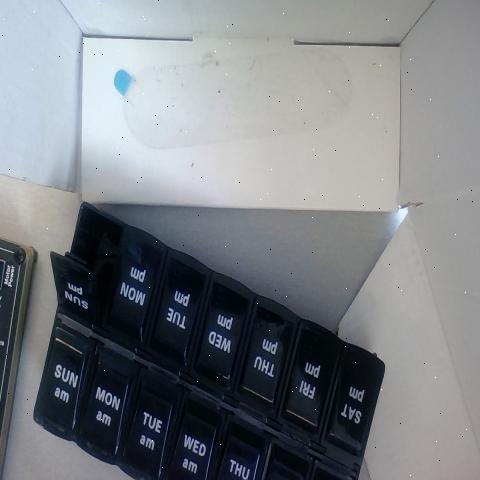FRI-pm: (294, 342, 325, 424)
MON-am: (83, 364, 128, 448)
MON-pm: (105, 238, 153, 338)
Open: (49, 205, 123, 329)
SAT-pm: (333, 362, 370, 442)
SUN-am: (47, 338, 79, 437)
THU-pm: (248, 322, 284, 406)
TUE-am: (135, 387, 167, 465)
TUE-pm: (159, 267, 193, 366)
WED-am: (171, 413, 210, 480)
WED-pm: (204, 296, 236, 383)
